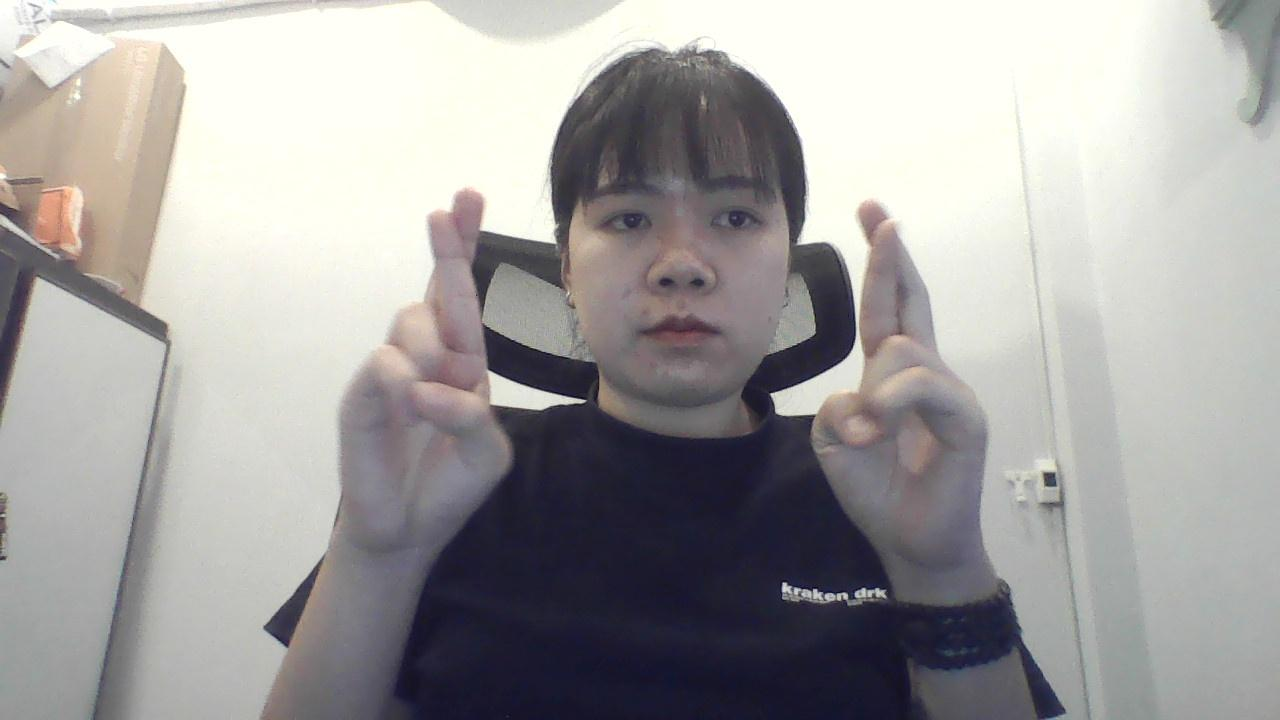R: (802, 189, 1012, 575), (326, 175, 522, 575)
